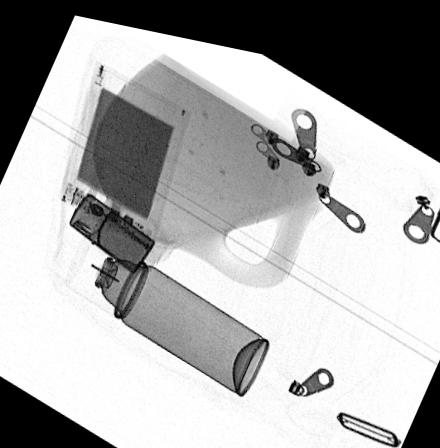Lighter: (65, 187, 154, 267)
Powerbank: (57, 56, 189, 246)
Sprayer: (65, 227, 268, 385)
